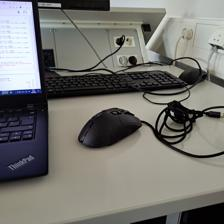mouse: (77, 106, 142, 149)
